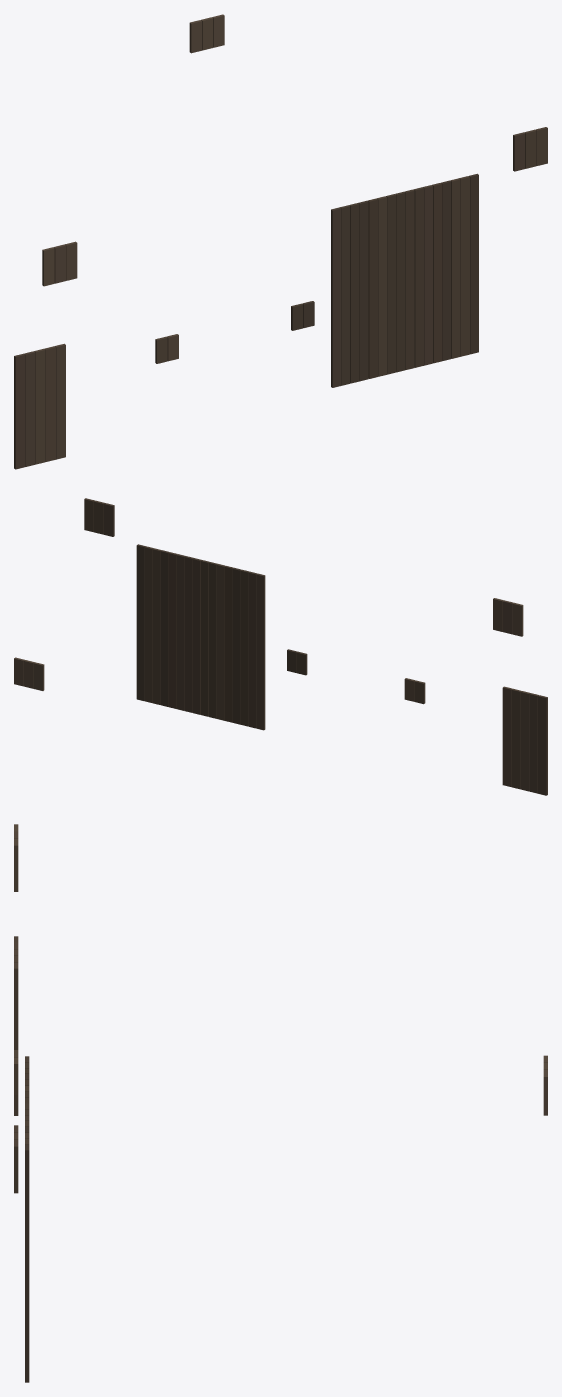
File: SM_Bld_003_Wood.glb
3 views of the same model, one above another, from view 1: azimuth 30°, elevation 25°; view 2: azimuth 150°, elevation 25°; view 3: azimuth 270°, elevation 25° (orthographic). The views are drawn at different scales.
Parts seen in each view (by area): view 1: SM_Bld_003_Wood; view 2: SM_Bld_003_Wood; view 3: SM_Bld_003_Wood.
Part boxes in pixels (<box>): SM_Bld_003_Wood: <box>14,14,547,469</box>; SM_Bld_003_Wood: <box>14,498,547,795</box>; SM_Bld_003_Wood: <box>14,824,547,1382</box>.
Size of the model in its own units: 9.42 by 3.58 by 6.24.
